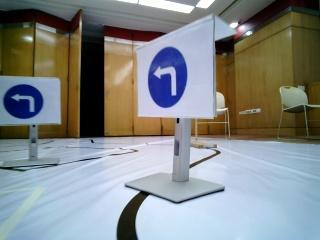left: (134, 31, 203, 119), (0, 76, 66, 125)
